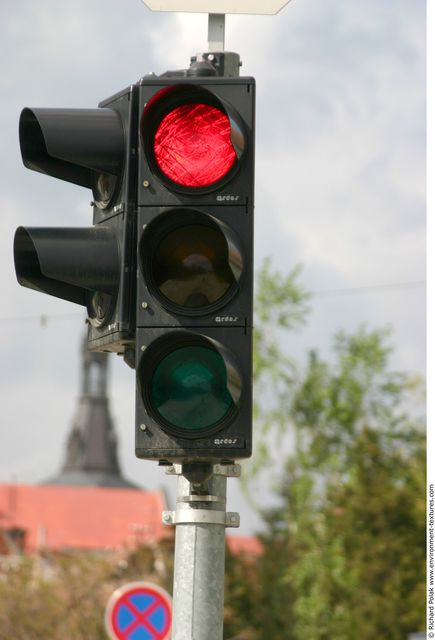pole: (169, 463, 232, 640)
traffic light: (139, 77, 247, 457), (15, 88, 134, 350)
